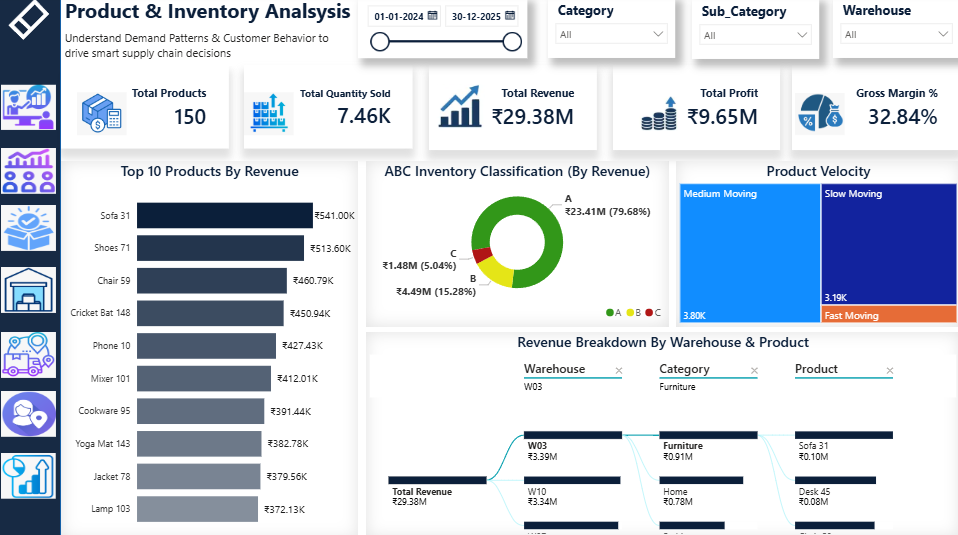

Layout of this report page (visuals, bound fields, positions):
{"tool":"powerbi","page":{"name":"Product & Inventory Analysis","canvas":[1280,720],"ordinal":2},"visuals":[{"type":"shape","box":[0,0,84.9,720],"z":0,"group":"g2"},{"type":"cardVisual","title":"Total Revenue KPI","fields":{"Data":["Measure Table.Total Products"]},"box":[85.3,92.2,223,111.5],"z":0},{"type":"image","title":"Executive summary","box":[5.9,117.1,73.2,61.5],"z":0,"group":"g1"},{"type":"actionButton","box":[0,0,84.9,62.9],"z":1000,"group":"g2"},{"type":"textbox","title":"Product & Inventory Analsysis","box":[84.9,0,395.1,43.9],"z":1000},{"type":"image","title":"Demand & customer","box":[5.9,202,73.2,61.5],"z":1000,"group":"g1"},{"type":"textbox","title":"SUPPLY CHAIN ANALYTICS","box":[84.9,39.5,395.1,52.7],"z":2000},{"type":"group","id":"g1","title":"Navigation page buttons","box":[5.9,117.1,73.2,551.7],"z":2000,"group":"g2"},{"type":"image","title":"Inventory","box":[5.9,278.1,73.2,61.5],"z":2000,"group":"g1"},{"type":"image","title":"Total Revenue KPI","box":[106,125.2,66.1,63.3],"z":3000},{"type":"image","title":"Warehouse","box":[5.9,360,73.2,61.5],"z":3000,"group":"g1"},{"type":"cardVisual","title":"Total Revenue KPI","fields":{"Data":["Measure Table.Gross Margin Table"]},"box":[1056.6,92.2,223.9,112.7],"z":4000},{"type":"image","title":"Regional","box":[5.9,525.4,73.2,61.5],"z":4000,"group":"g1"},{"type":"cardVisual","title":"Total Revenue KPI","fields":{"Data":["Measure Table.Total Revenue"]},"box":[573.9,92.2,223,112.9],"z":5000},{"type":"image","title":"Delivery","box":[5.9,446.4,73.2,61.5],"z":5000,"group":"g1"},{"type":"cardVisual","title":"Total Revenue KPI","fields":{"Data":["Measure Table.Total Quantity Sold"]},"box":[327.6,92.2,224.3,111.5],"z":6000},{"type":"image","title":"Scorecard","box":[5.9,607.3,73.2,61.5],"z":6000,"group":"g1"},{"type":"cardVisual","title":"Total Revenue KPI","fields":{"Data":["Measure Table.Total Profit"]},"box":[818,92.2,222.4,112.7],"z":7000},{"type":"image","title":"Total Revenue KPI","box":[327.6,125.2,66.1,63.3],"z":8000},{"type":"image","title":"Total Revenue KPI","box":[583.6,117,66.1,63.3],"z":9000},{"type":"image","title":"Total Revenue KPI","box":[849.2,125.2,66.1,63.3],"z":10000},{"type":"image","title":"Total Revenue KPI","box":[1059.8,125.2,66.1,63.3],"z":11000},{"type":"slicer","fields":{"Values":["Calendar Table.Date"]},"box":[480,2.9,225.4,80.5],"z":12000},{"type":"slicer","fields":{"Values":["products.Category"]},"box":[732.2,1.4,169.3,81.2],"z":13000},{"type":"slicer","fields":{"Values":["products.Sub_Category"]},"box":[923.5,2.8,169.3,81.2],"z":14000},{"type":"slicer","fields":{"Values":["warehouses.Warehouse_ID"]},"box":[1110.7,1.4,169.3,81.2],"z":15000},{"type":"barChart","title":"Top 10 Products By Revenue","fields":{"Category":["products.Product_Name"],"Y":["Measure Table.Total Revenue"]},"box":[85.3,218.8,395,502.4],"z":16000},{"type":"donutChart","title":"ABC Inventory Classification (By Revenue)","fields":{"Category":["products.ABC Column"],"Y":["Measure Table.Total Revenue"]},"box":[490.5,218.8,401.9,220.2],"z":17000},{"type":"treemap","title":"Product Velocity","fields":{"Values":["Measure Table.Total Quantity Sold"],"Group":["products.Product Velocity"]},"box":[901.5,218.8,378.5,220.2],"z":18000},{"type":"group","id":"g2","title":"Navigation bar","box":[0,0,84.9,720],"z":19000},{"type":"decompositionTreeVisual","title":"Revenue Breakdown By Warehouse & Product","fields":{"ExplainBy":["warehouses.Warehouse_ID","products.Category","products.Product_Name"],"Analyze":["Measure Table.Total Revenue"]},"box":[490.5,446.2,789.5,273.2],"z":20000}]}

Visuals, with their boxes in screenshot pixels (x1, y1, x2, y2), scaled from the page's 1280x720 canvas onto the 958x535 screenshot:
shape: bbox=(0, 0, 64, 534)
"Total Revenue KPI" cardVisual: bbox=(64, 69, 231, 151)
"Executive summary" image: bbox=(4, 87, 59, 133)
actionButton: bbox=(0, 0, 64, 47)
"Product & Inventory Analsysis" textbox: bbox=(64, 0, 359, 33)
"Demand & customer" image: bbox=(4, 150, 59, 196)
"SUPPLY CHAIN ANALYTICS" textbox: bbox=(64, 29, 359, 69)
"Navigation page buttons" group: bbox=(4, 87, 59, 497)
"Inventory" image: bbox=(4, 207, 59, 252)
"Total Revenue KPI" image: bbox=(79, 93, 129, 140)
"Warehouse" image: bbox=(4, 268, 59, 313)
"Total Revenue KPI" cardVisual: bbox=(791, 69, 957, 152)
"Regional" image: bbox=(4, 390, 59, 436)
"Total Revenue KPI" cardVisual: bbox=(430, 69, 596, 152)
"Delivery" image: bbox=(4, 332, 59, 377)
"Total Revenue KPI" cardVisual: bbox=(245, 69, 413, 151)
"Scorecard" image: bbox=(4, 451, 59, 497)
"Total Revenue KPI" cardVisual: bbox=(612, 69, 779, 152)
"Total Revenue KPI" image: bbox=(245, 93, 295, 140)
"Total Revenue KPI" image: bbox=(437, 87, 486, 134)
"Total Revenue KPI" image: bbox=(636, 93, 685, 140)
"Total Revenue KPI" image: bbox=(793, 93, 843, 140)
slicer - Calendar Table.Date: bbox=(359, 2, 528, 62)
slicer - products.Category: bbox=(548, 1, 675, 61)
slicer - products.Sub_Category: bbox=(691, 2, 818, 62)
slicer - warehouses.Warehouse_ID: bbox=(831, 1, 957, 61)
"Top 10 Products By Revenue" barChart: bbox=(64, 163, 359, 534)
"ABC Inventory Classification (By Revenue)" donutChart: bbox=(367, 163, 668, 326)
"Product Velocity" treemap: bbox=(675, 163, 957, 326)
"Navigation bar" group: bbox=(0, 0, 64, 534)
"Revenue Breakdown By Warehouse & Product" decompositionTreeVisual: bbox=(367, 332, 957, 534)
